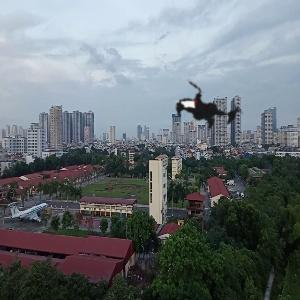drone: (159, 55, 261, 157)
